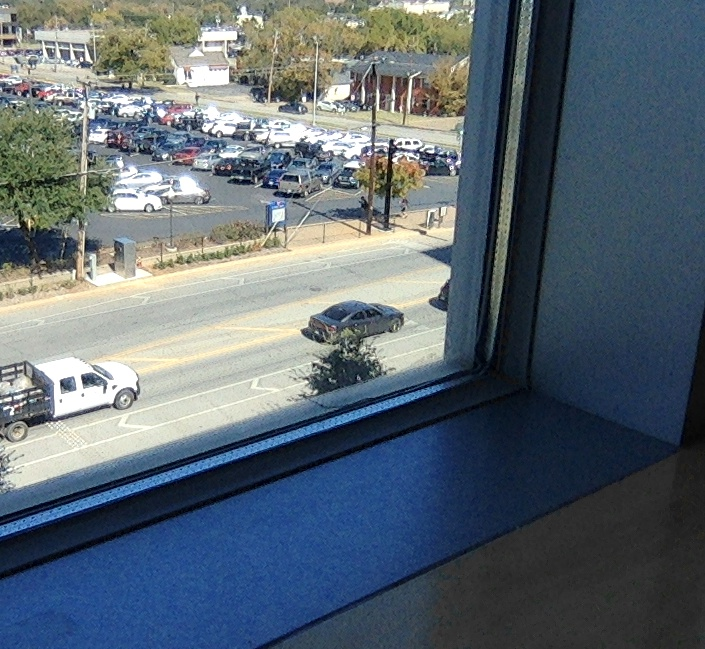car: (300, 300, 405, 349)
